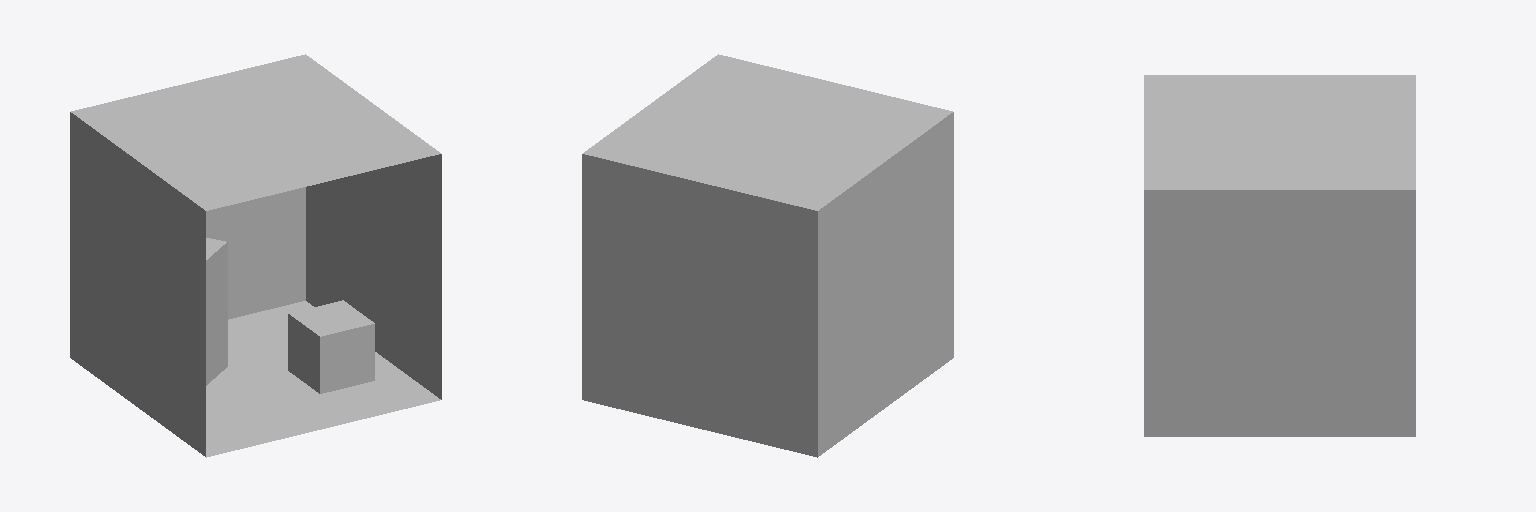
Rendered from cornellMeshSplit.obj.
3 views of the same model, side by side, from view 1: azimuth 30°, elevation 25°; view 2: azimuth 150°, elevation 25°; view 3: azimuth 270°, elevation 25° (orthographic).
Parts seen in each view (by area): view 1: GreenWall, Roof, BlueWall, Floor, RedWall, RightBox, LeftBox; view 2: RedWall, GreenWall, Roof; view 3: BlueWall, Roof.
Boxes of the visible parts, <box> form: GreenWall: <box>70,112,205,456</box>; Roof: <box>71,54,440,210</box>; BlueWall: <box>306,154,441,399</box>; Floor: <box>206,301,440,457</box>; RedWall: <box>206,187,305,319</box>; RightBox: <box>288,300,374,393</box>; LeftBox: <box>206,238,227,385</box>; RedWall: <box>582,154,817,457</box>; GreenWall: <box>818,112,953,456</box>; Roof: <box>583,54,952,210</box>; BlueWall: <box>1144,190,1415,436</box>; Roof: <box>1144,75,1415,189</box>.
Bounding box in the file's own units: 2 × 2 × 2.